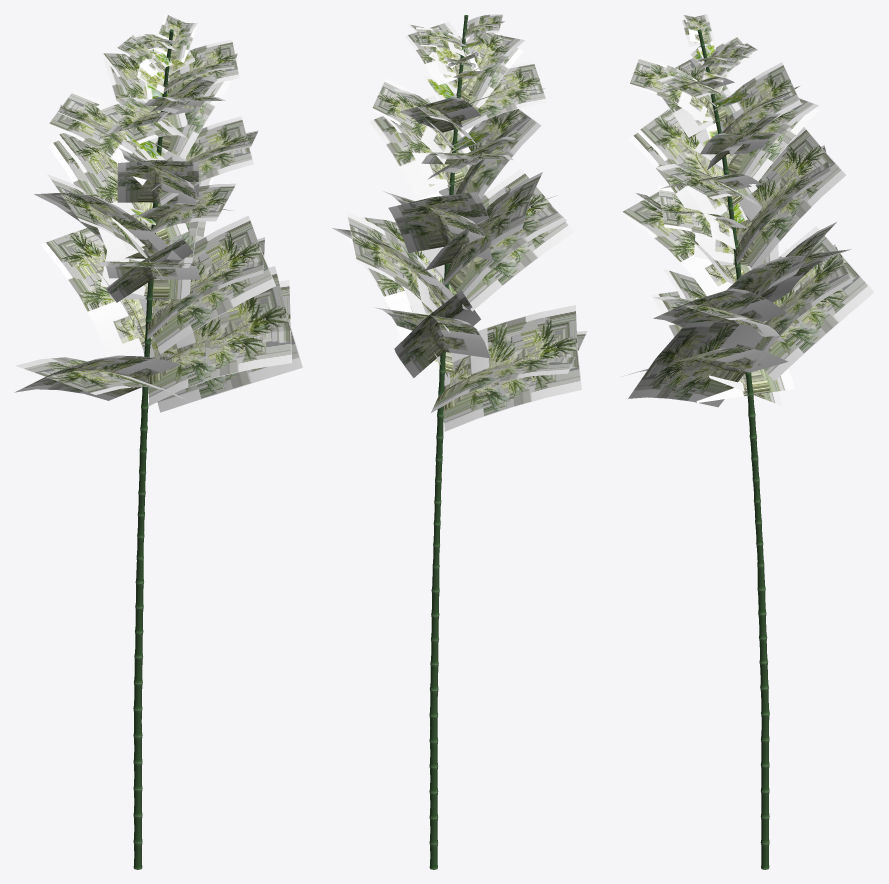
The model's file is bamboo2.fbx.
3 renders of one model, left to right at view 1: azimuth 30°, elevation 25°; view 2: azimuth 150°, elevation 25°; view 3: azimuth 270°, elevation 25°, orthographic. The views are drawn at different scales.
Visible parts, largest first — view 1: polySurface92; view 2: polySurface92; view 3: polySurface92.
Part boxes in pixels (left/top/right/bottom): polySurface92: left=14, top=14, right=302, bottom=869; polySurface92: left=332, top=14, right=587, bottom=869; polySurface92: left=619, top=14, right=874, bottom=869.
Size of the model in its own units: 342 by 1104 by 308.
2 materials, 2 textured.
